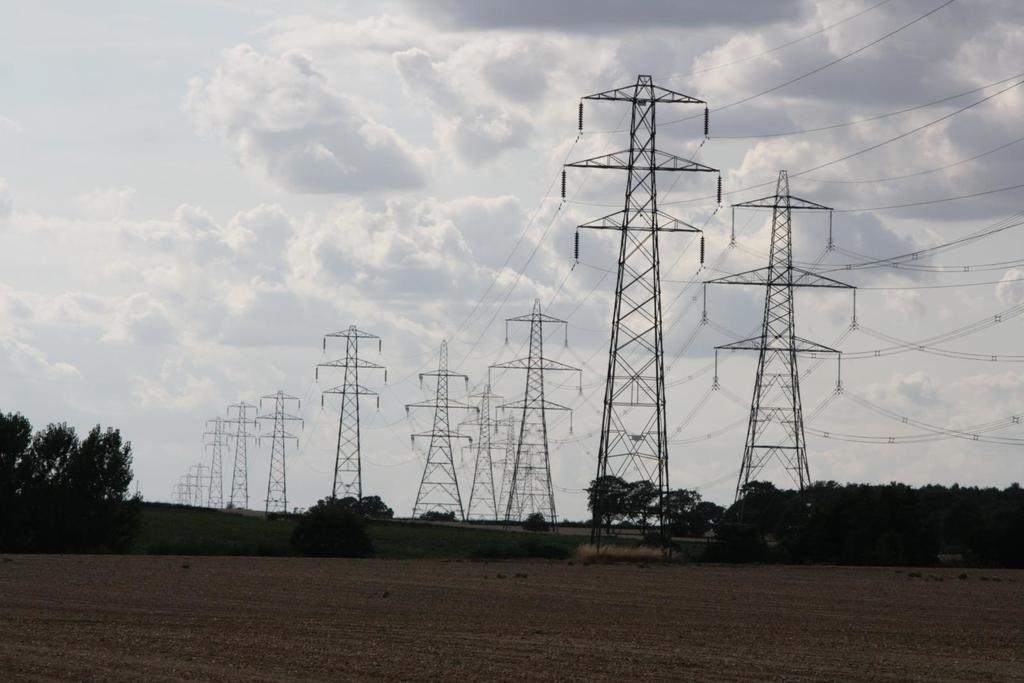Tree: (585, 475, 1024, 566), (0, 411, 146, 555), (289, 492, 395, 558)
